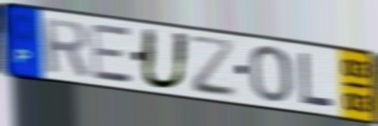E: (89, 23, 136, 86)
L: (297, 50, 337, 109)
O: (248, 44, 293, 105)
R: (40, 15, 91, 79)
U: (138, 25, 192, 92)
Z: (186, 34, 239, 101)
